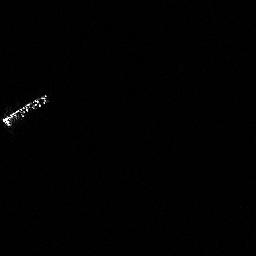ship: (1, 91, 53, 129)
